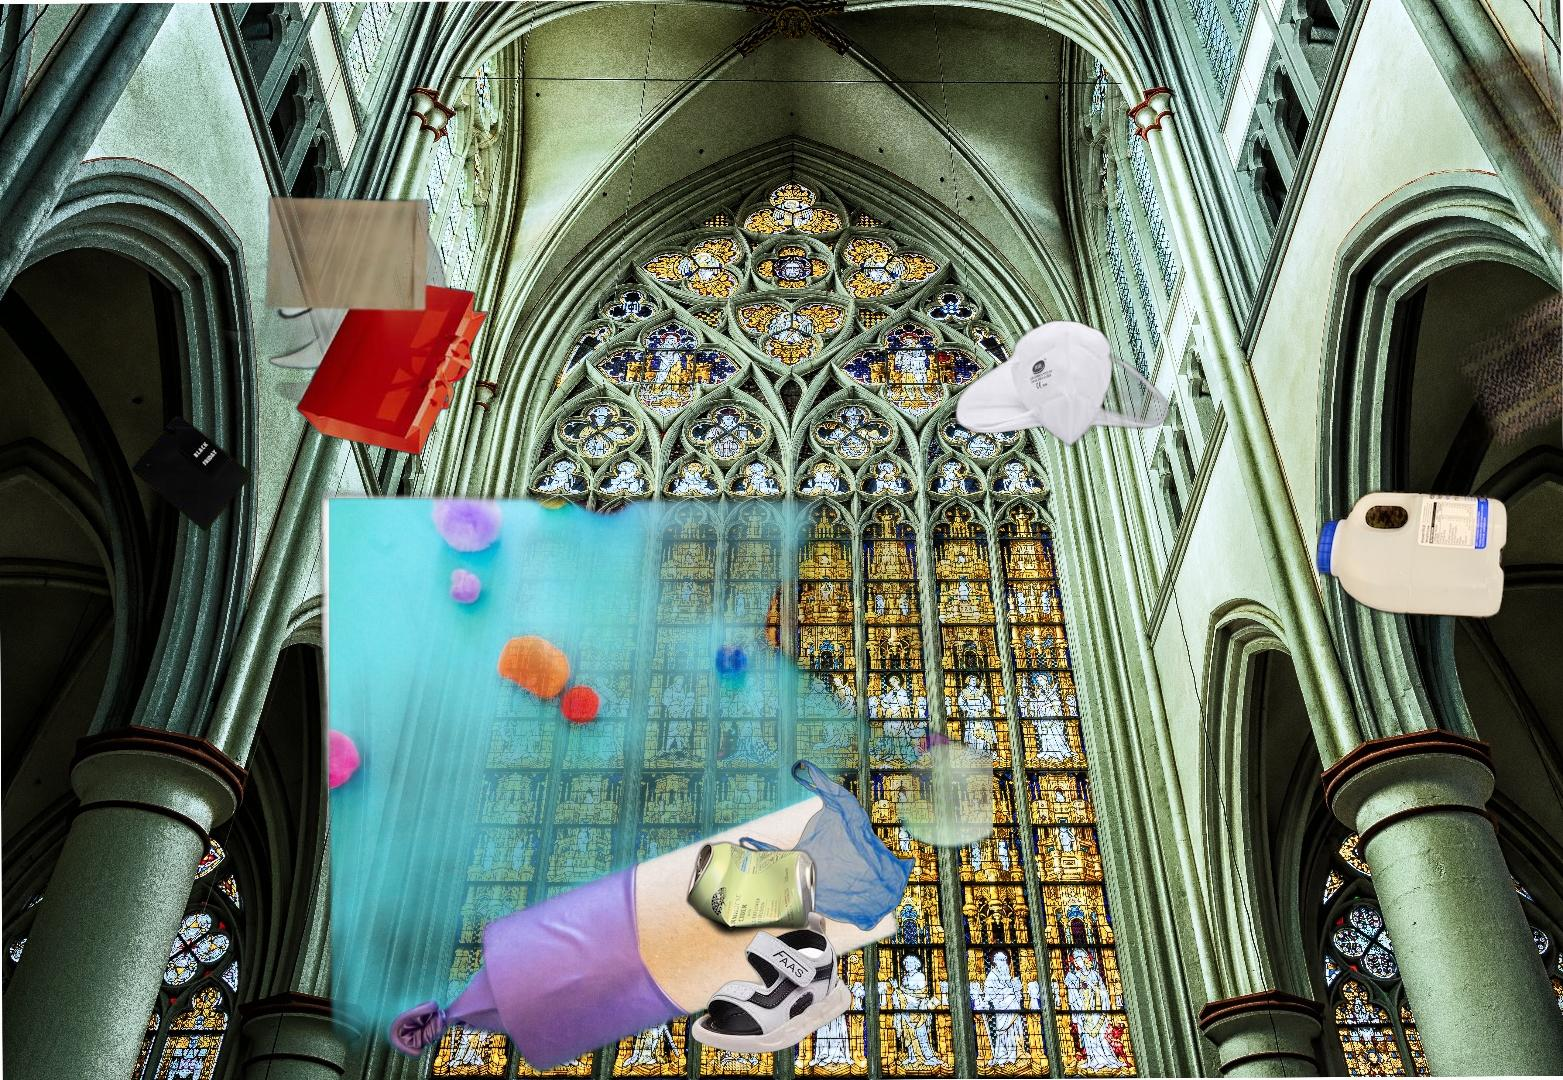metal-cans: (682, 836, 820, 943)
paper-bag: (210, 182, 491, 482), (129, 413, 254, 534)
plastic-bag: (733, 757, 917, 934)
plastic-bottles: (1257, 38, 1563, 625)
shoes: (688, 909, 855, 1056)
trash: (952, 317, 1175, 457)
trashbox-cardboard: (183, 202, 993, 1080)
